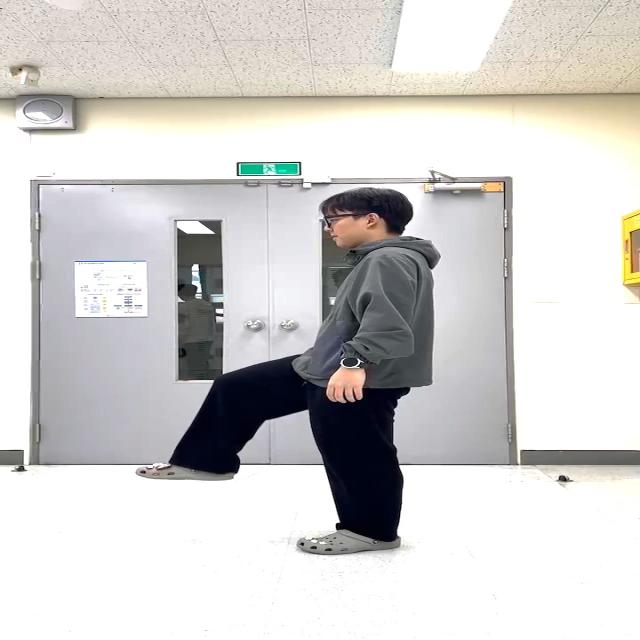leg: (135, 354, 308, 481), (297, 382, 408, 554)
